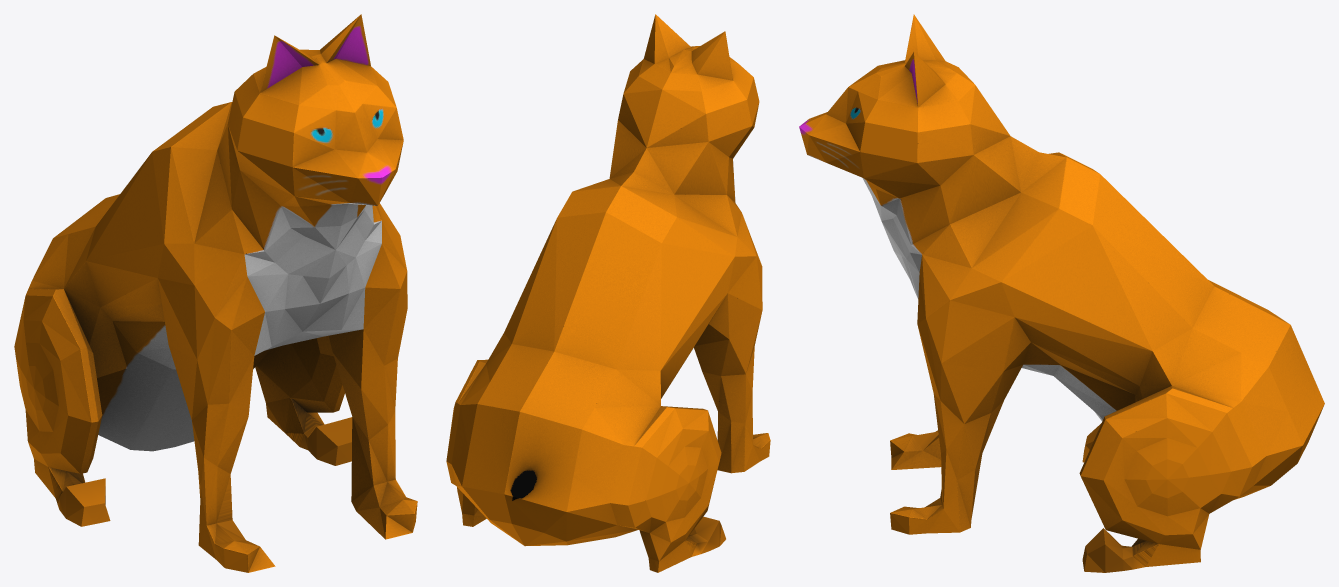
The model's file is cat.fbx.
The picture shows the model from 3 angles, left to right: view 1: azimuth 30°, elevation 25°; view 2: azimuth 150°, elevation 25°; view 3: azimuth 270°, elevation 25°; orthographic projection. The views are drawn at different scales.
Parts seen in each view (by area): view 1: geo_cat; view 2: geo_cat; view 3: geo_cat.
Boxes of the visible parts, box(x1,y1,x2,y2) form: geo_cat: box(14, 14, 417, 572); geo_cat: box(446, 14, 770, 572); geo_cat: box(799, 14, 1324, 572).
Bounding box in the file's own units: 16.27 × 29.03 × 28.92.
